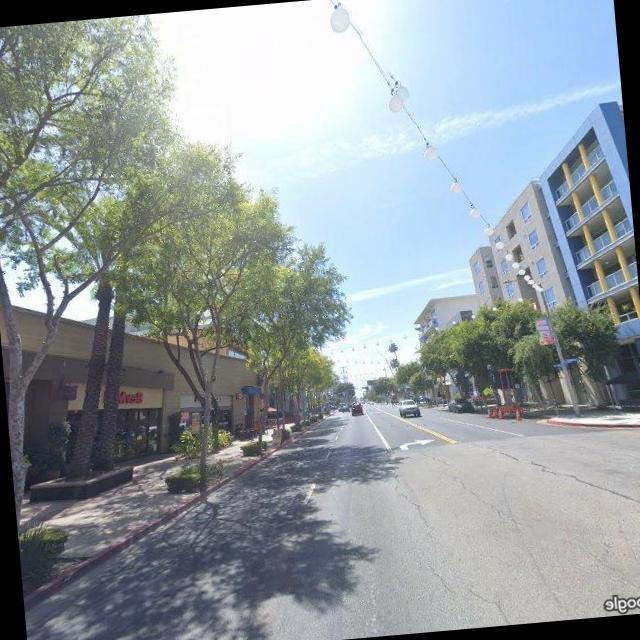crack: (476, 422, 640, 523), (424, 442, 512, 531), (418, 552, 516, 630), (390, 465, 438, 542)
